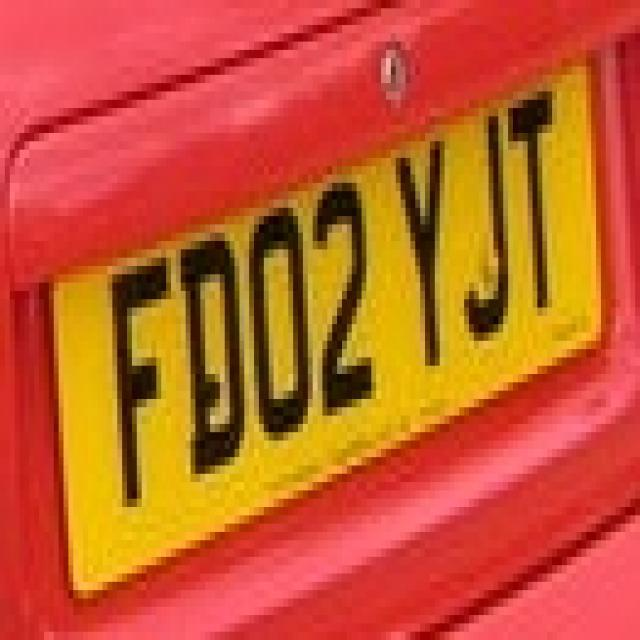licenseplate: (36, 46, 633, 588)
